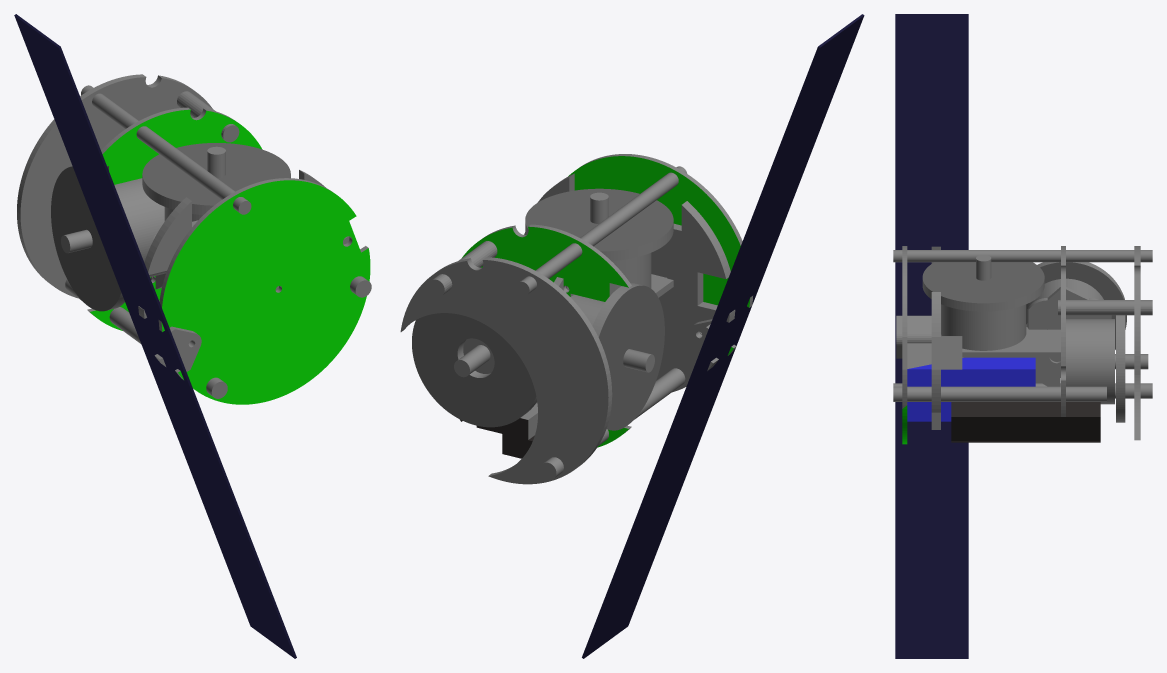
The model's file is fksb.fbx.
3 renders of one model, left to right at view 1: azimuth 30°, elevation 25°; view 2: azimuth 150°, elevation 25°; view 3: azimuth 270°, elevation 25°, orthographic. The views are drawn at different scales.
Visible parts, largest first — view 1: Fks-B_FM, Plane; view 2: Fks-B_FM, Plane; view 3: Fks-B_FM, Plane.
Part boxes in pixels (x1=…): Fks-B_FM: x1=17, y1=74, x2=371, y2=404; Plane: x1=14, y1=14, x2=296, y2=658; Fks-B_FM: x1=400, y1=154, x2=752, y2=484; Plane: x1=582, y1=14, x2=864, y2=658; Fks-B_FM: x1=893, y1=246, x2=1152, y2=444; Plane: x1=895, y1=14, x2=968, y2=658.
Size of the model in its own units: 9830 by 19908 by 8500.
